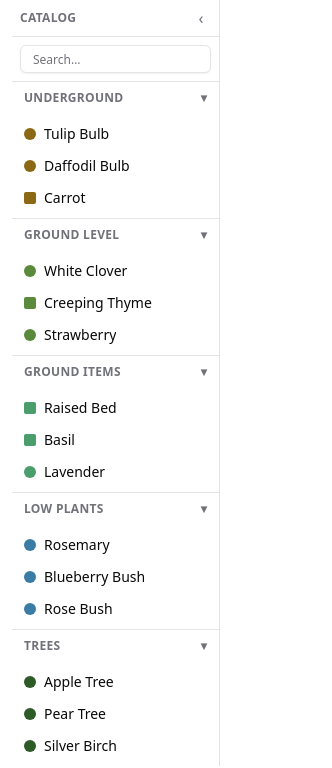
Test: Sidebar › catalog search › shows filtered item even when its layer section is collapsed
Note: Collapse the Trees section
Click the button "Trees ▾" at (116, 646), box [12, 630, 219, 662]
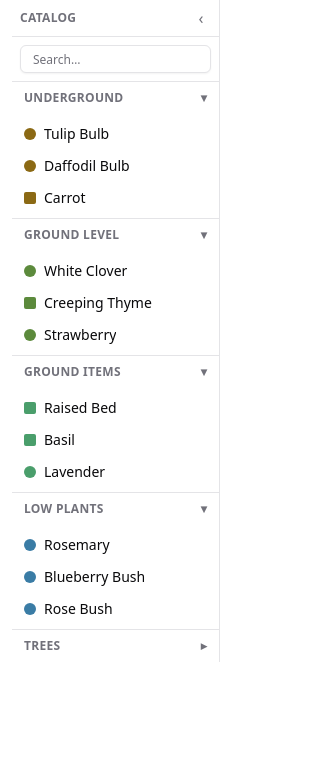
expect the text "Apple Tree" is gone: met
Note: Now search for Apple Tree
Type "apple" into the search field with test id "catalog-search" at (116, 59), box [20, 45, 211, 73]
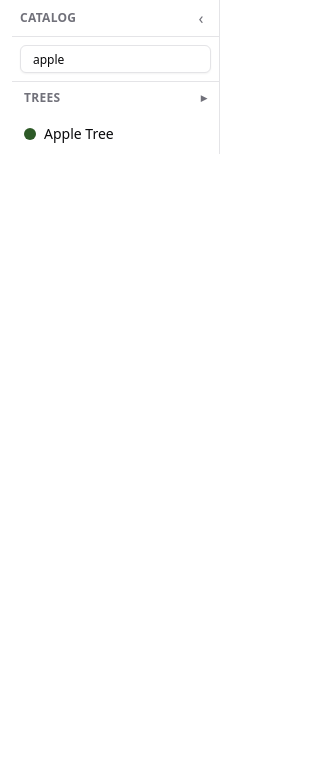
expect the text "Apple Tree" is shown: met, box [44, 124, 114, 144]
